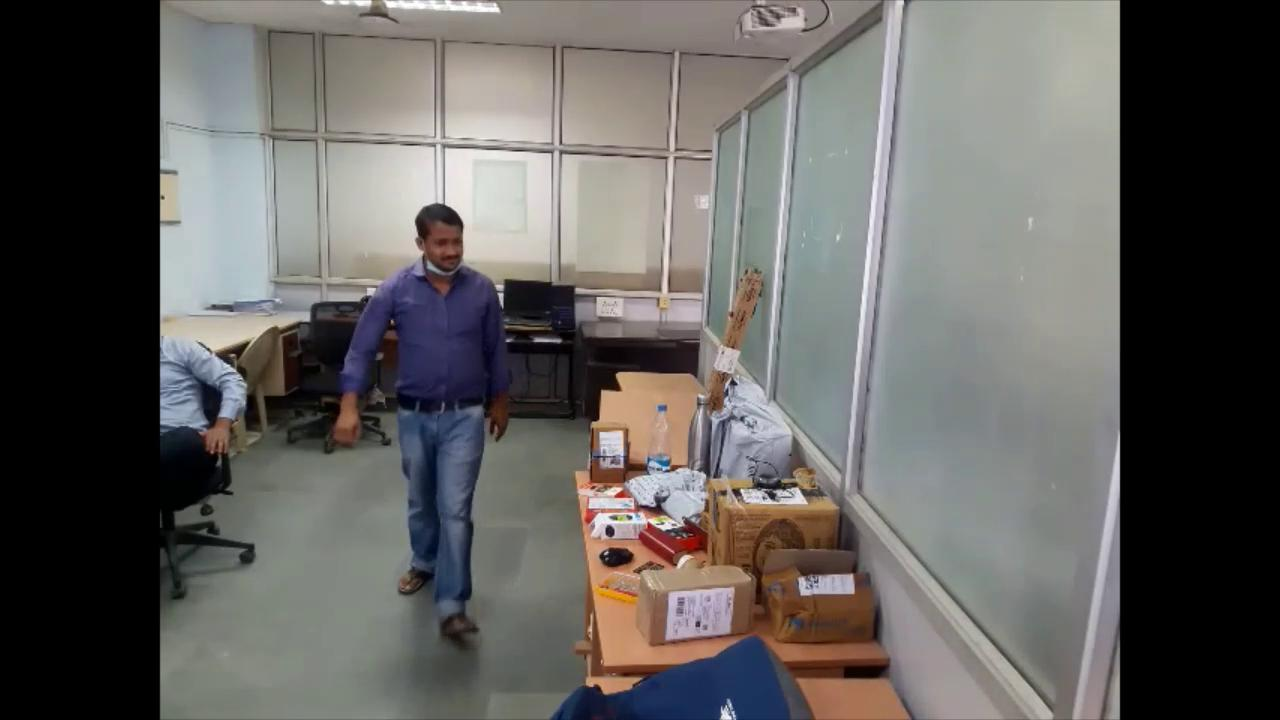Normal: (308, 169, 541, 648)
